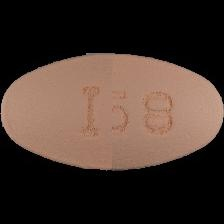42549-648: (0, 0, 224, 224)
